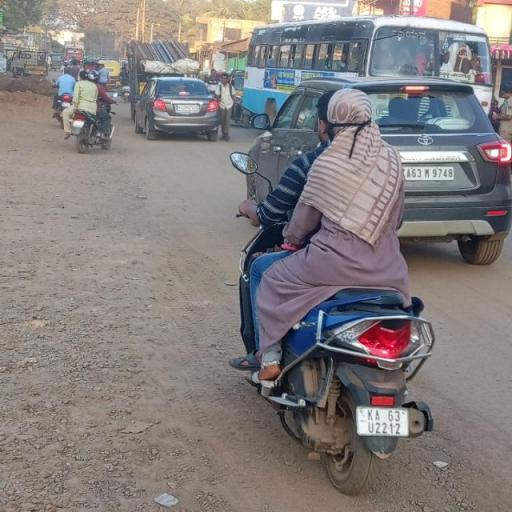bike: (214, 82, 454, 500)
numberplate: (357, 406, 408, 436)
withouthelmet: (328, 90, 371, 140)
